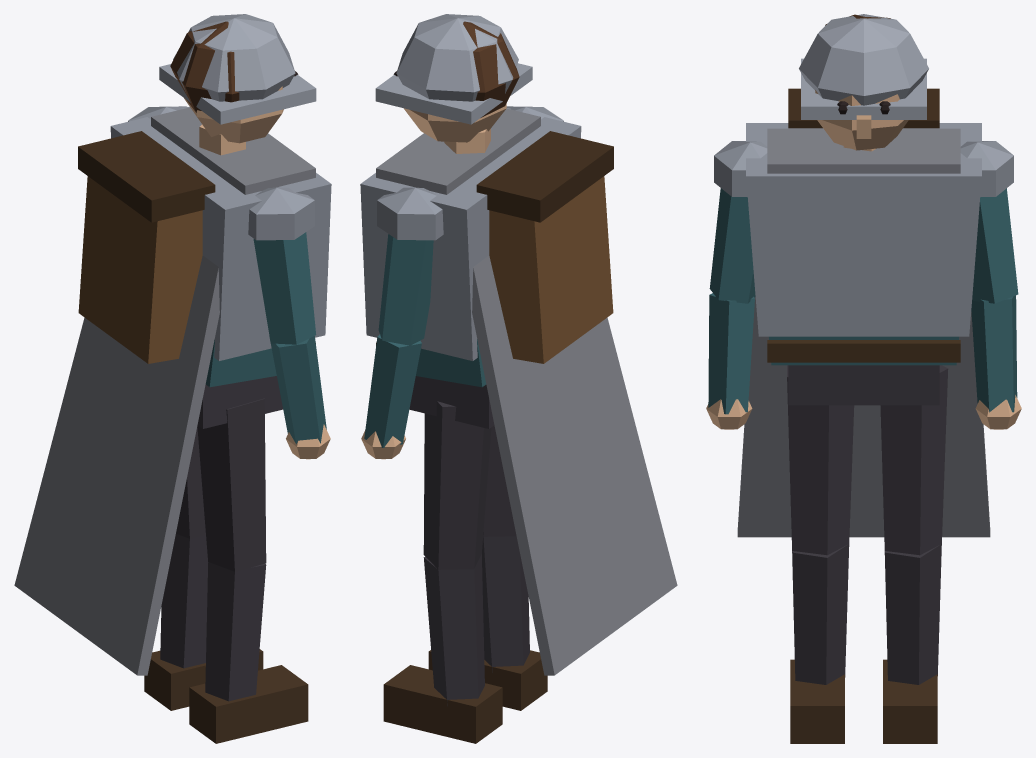
File: survivor.glb
3 views of the same model, side by side, from view 1: azimuth 30°, elevation 25°; view 2: azimuth 150°, elevation 25°; view 3: azimuth 270°, elevation 25° (orthographic). The views are drawn at different scales.
Parts seen in each view (by area): view 1: cloak, body, leg_r, armor, arm_r, leg_l, helmet, head; view 2: cloak, body, leg_l, armor, leg_r, arm_l, helmet, head; view 3: armor, cloak, leg_l, leg_r, body, helmet, arm_r, arm_l, head.
Boxes of the visible parts, x1=… form: cloak: x1=14, y1=107, x2=315, y2=675; body: x1=78, y1=124, x2=315, y2=428; leg_r: x1=189, y1=398, x2=308, y2=743; armor: x1=110, y1=106, x2=331, y2=360; arm_r: x1=253, y1=232, x2=330, y2=459; leg_l: x1=144, y1=427, x2=263, y2=710; helmet: x1=159, y1=14, x2=316, y2=124; head: x1=170, y1=21, x2=298, y2=143; cloak: x1=376, y1=108, x2=677, y2=675; body: x1=376, y1=128, x2=613, y2=428; leg_l: x1=383, y1=401, x2=502, y2=743; armor: x1=360, y1=106, x2=581, y2=360; leg_r: x1=428, y1=425, x2=547, y2=710; arm_l: x1=361, y1=234, x2=433, y2=459; helmet: x1=375, y1=14, x2=532, y2=124; head: x1=393, y1=21, x2=519, y2=142; armor: x1=714, y1=123, x2=1013, y2=336; cloak: x1=737, y1=128, x2=990, y2=537; leg_l: x1=880, y1=365, x2=948, y2=743; leg_r: x1=787, y1=365, x2=854, y2=743; body: x1=767, y1=88, x2=960, y2=405; helmet: x1=799, y1=14, x2=928, y2=119; arm_r: x1=706, y1=188, x2=755, y2=429; arm_l: x1=971, y1=188, x2=1021, y2=429; head: x1=815, y1=14, x2=908, y2=150.
Size of the model in its own units: 0.617 by 1.85 by 0.75.
